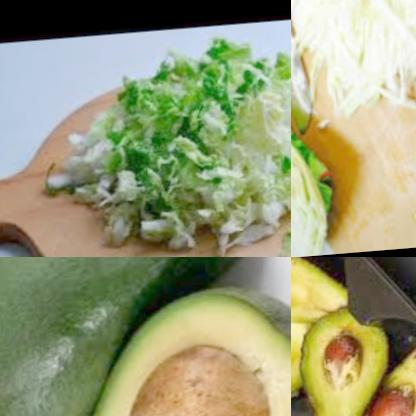avocado: (0, 257, 266, 416), (52, 283, 291, 416), (291, 296, 380, 416), (316, 329, 416, 416), (291, 257, 345, 328), (291, 299, 315, 416)
cabbage: (291, 0, 416, 125), (291, 96, 338, 257)
salad: (34, 25, 291, 257)
